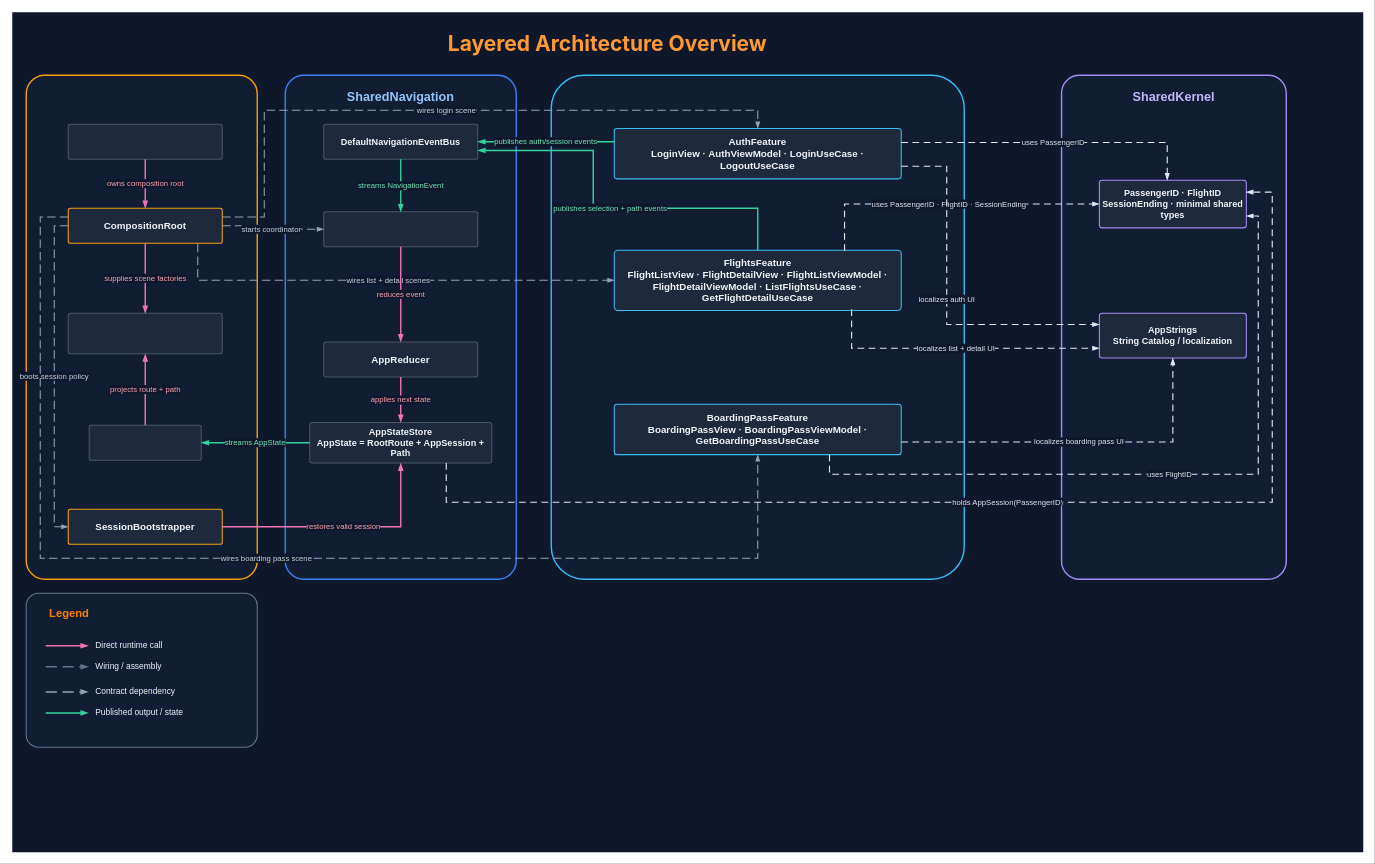
This 1375x864 diagram has some shape labels left out. Here are the shapes that lost their labels. From the top down, the box of each, then its label:
(67, 123, 222, 159): iOSArchitectureShowcaseApp
(323, 211, 478, 247): AppCoordinator
(25, 74, 258, 580): App Shell / Composition
(67, 312, 222, 354): RootView NavigationStack(path:)
(550, 74, 965, 580): Feature Modules
(88, 424, 201, 460): AppViewModel
